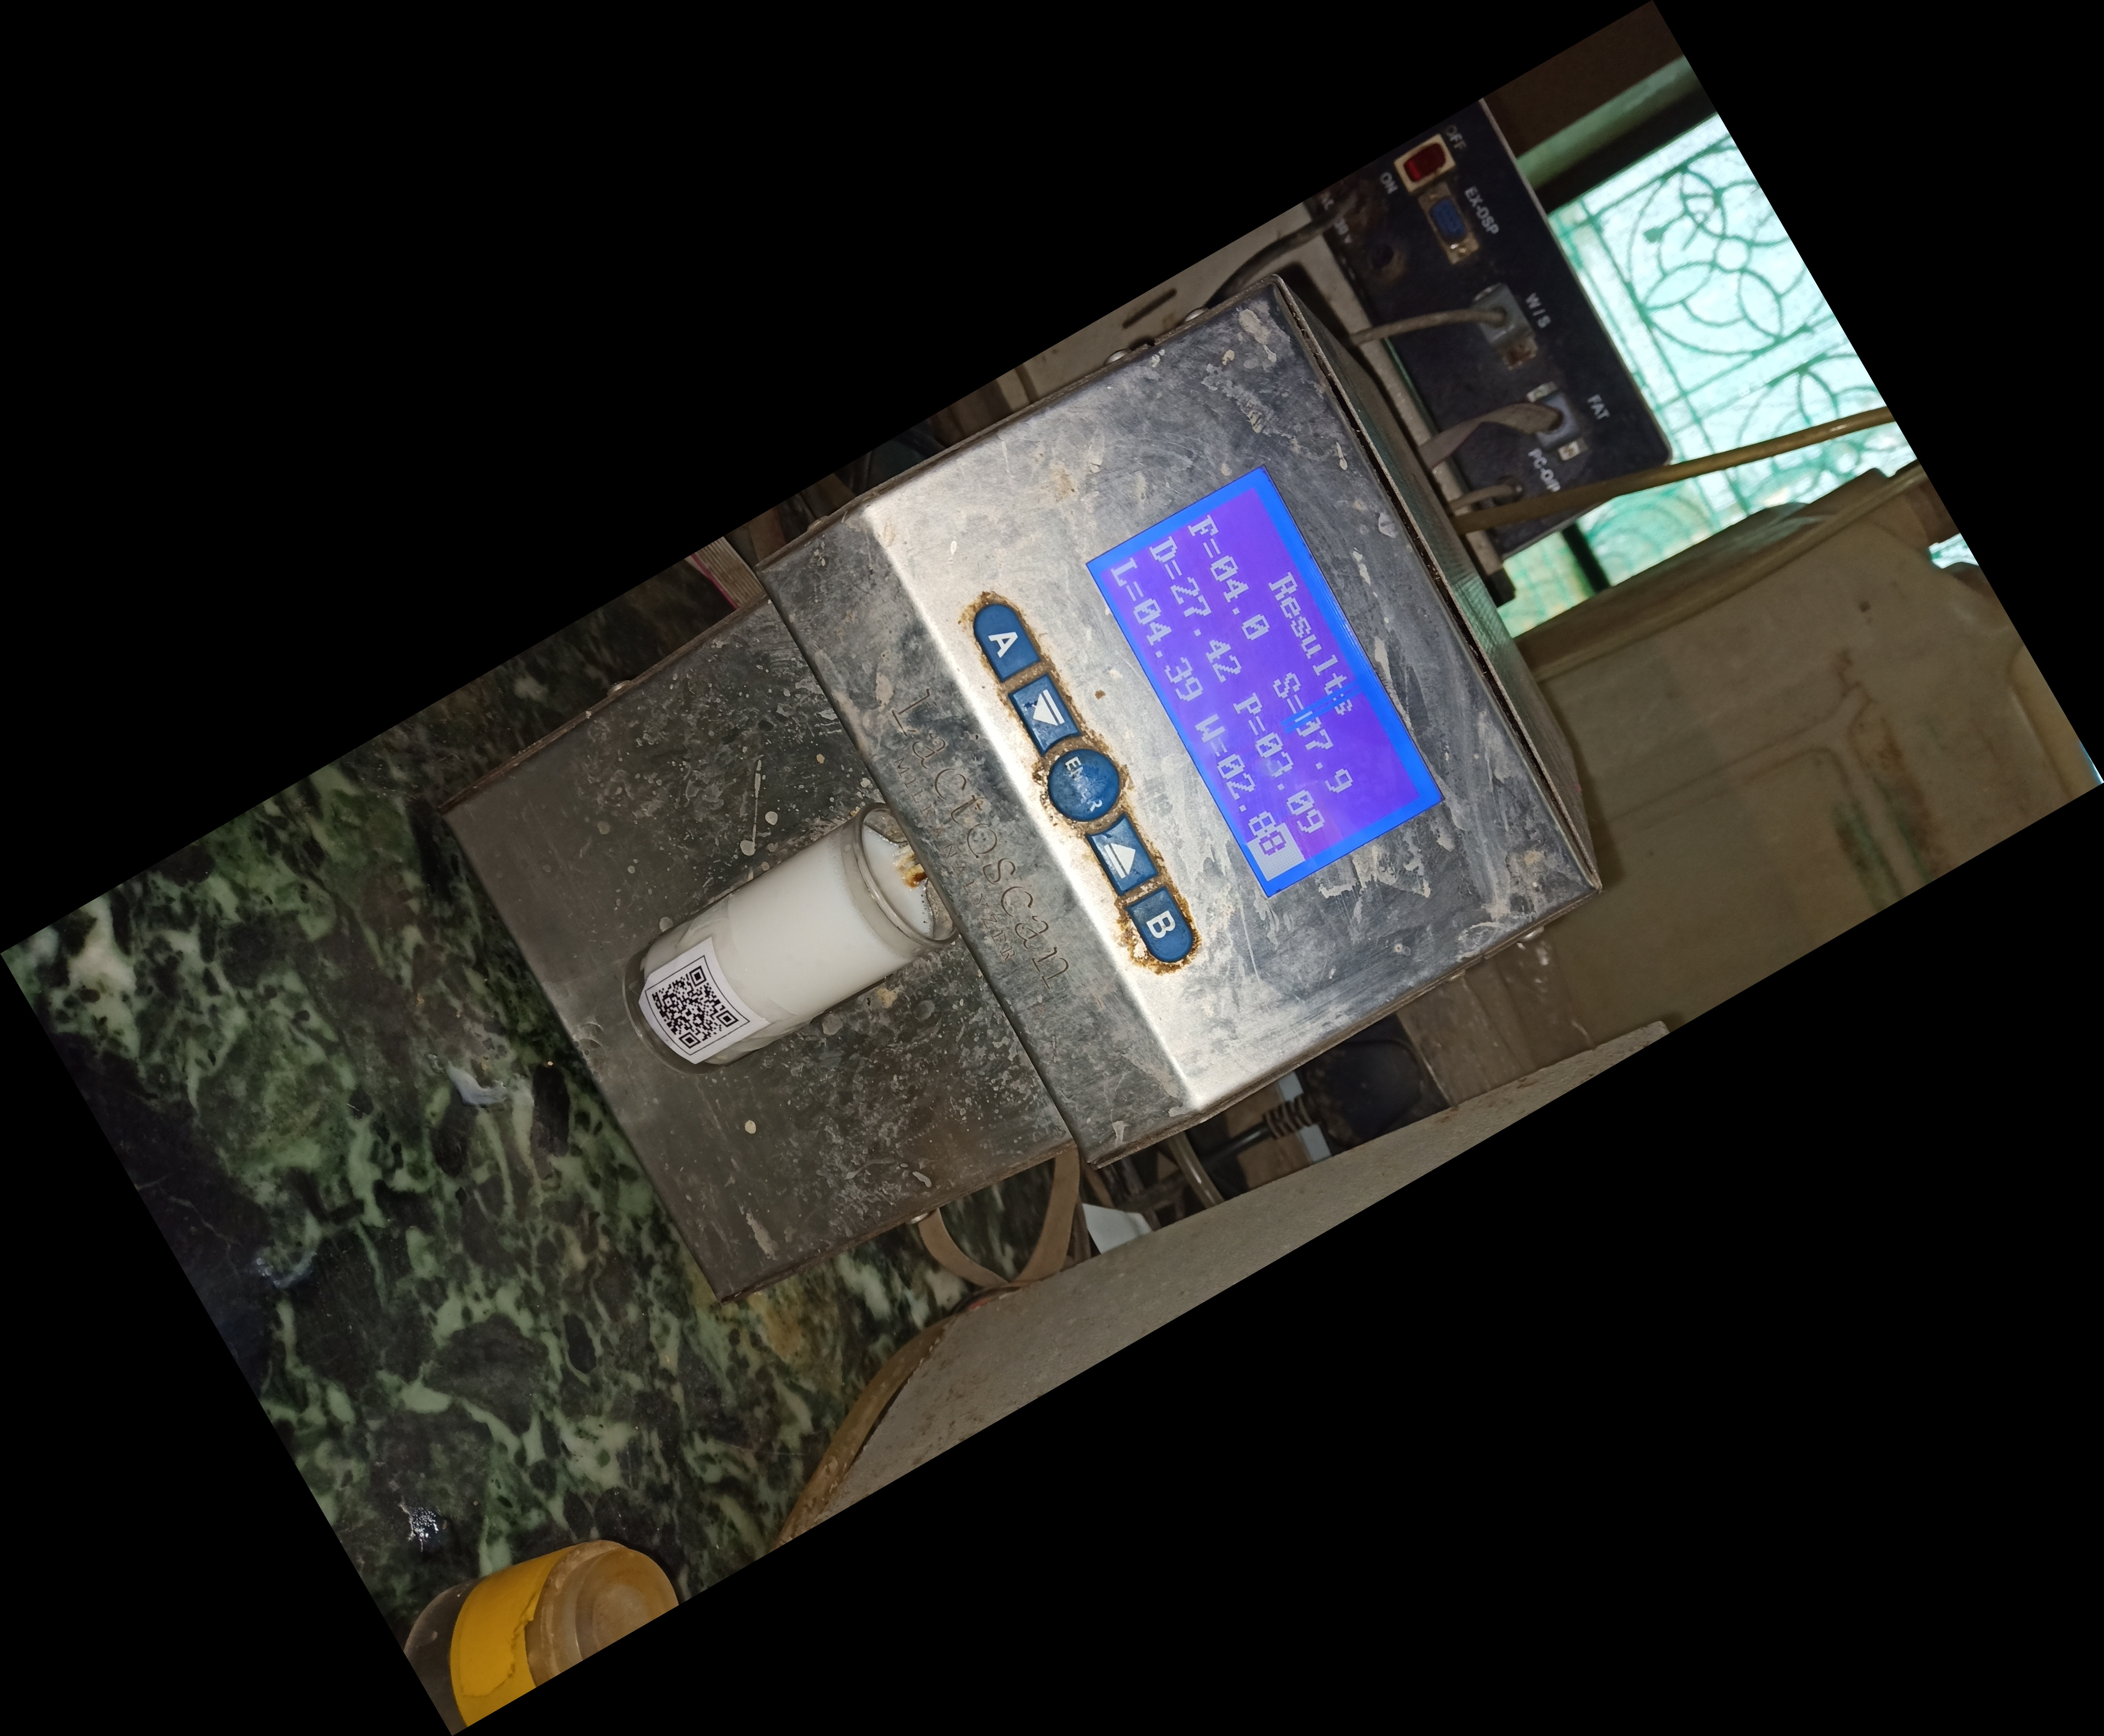lcd: (1066, 444, 1457, 924)
qr: (626, 934, 774, 1079)
